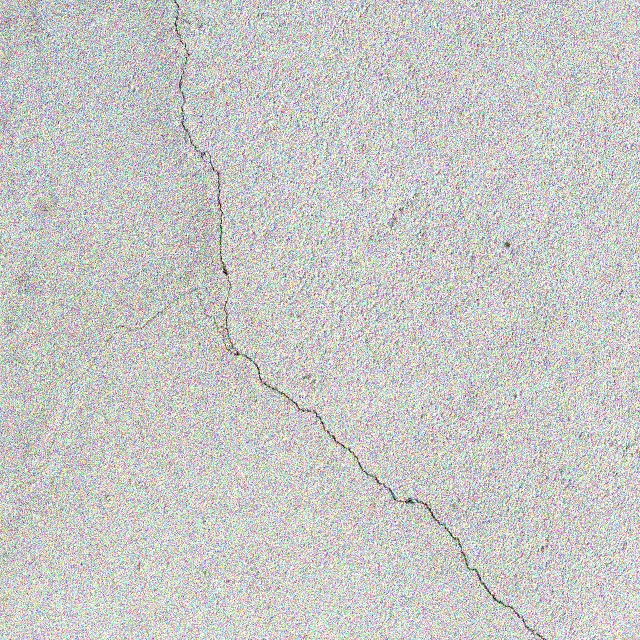SurfaceCrack: (4, 1, 626, 640)
